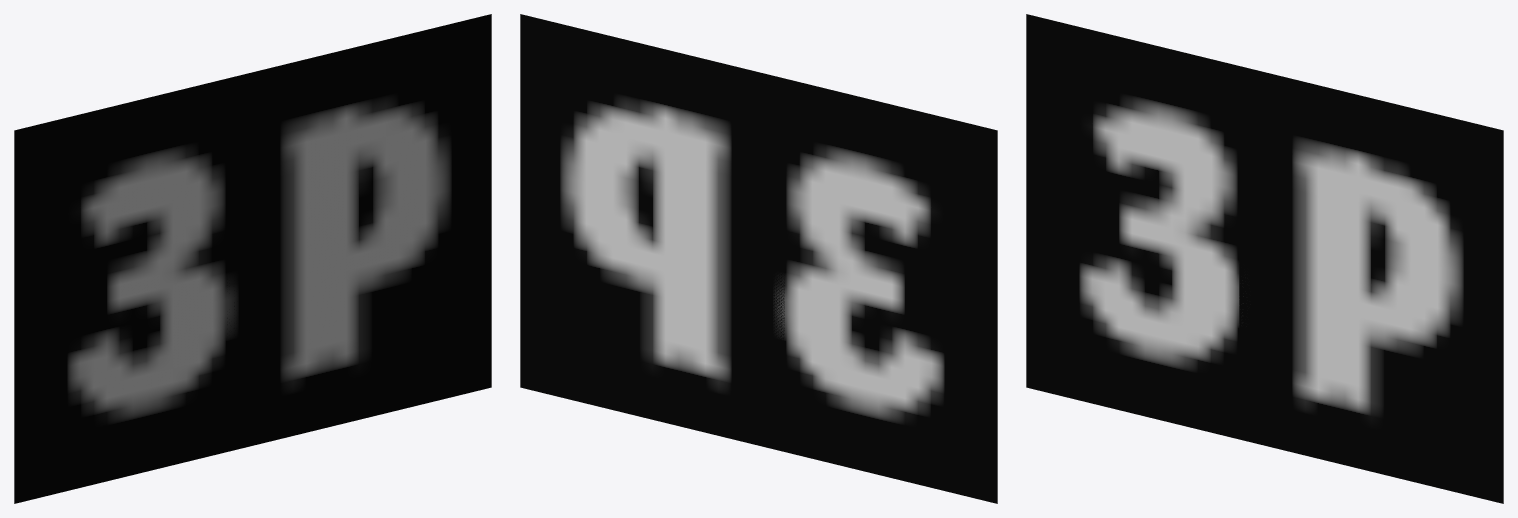
The picture shows the model from 3 angles, left to right: view 1: azimuth 30°, elevation 25°; view 2: azimuth 150°, elevation 25°; view 3: azimuth 330°, elevation 25°; orthographic projection.
Parts seen in each view (by area): view 1: Joint_0_Object_0; view 2: Joint_0_Object_0; view 3: Joint_0_Object_0.
Part boxes in pixels (<box>): Joint_0_Object_0: <box>14,14,491,503</box>; Joint_0_Object_0: <box>520,14,997,503</box>; Joint_0_Object_0: <box>1026,14,1503,503</box>.
Bounding box in the file's own units: 97.04 × 72.58 × 0.
Materials: 1 (1 with a texture image).
